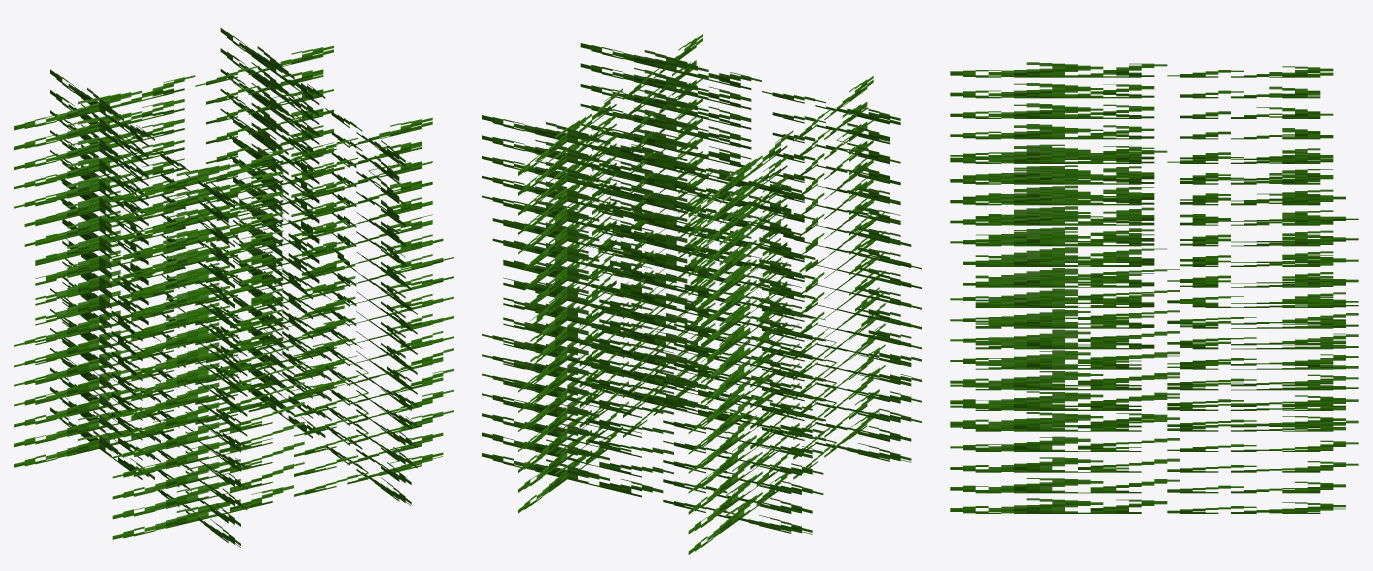
The model's file is block_seagrass.gltf.
The picture shows the model from 3 angles, left to right: view 1: azimuth 30°, elevation 25°; view 2: azimuth 150°, elevation 25°; view 3: azimuth 270°, elevation 25°; orthographic projection. The views are drawn at different scales.
Visible parts, largest first — view 1: cube (×4); view 2: cube (×4); view 3: cube (×2).
Boxes of the visible parts, x1,y1,x2,y2 form: cube (×4): (14, 28, 453, 547); cube (×4): (482, 34, 921, 554); cube (×2): (950, 62, 1358, 513).
Size of the model in its own units: 1 by 1 by 1.
1 material, 1 textured.
